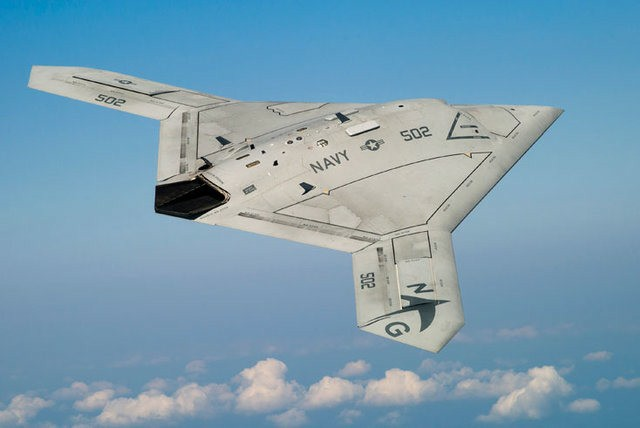maybay_khongnguoilai: (29, 61, 563, 347)
